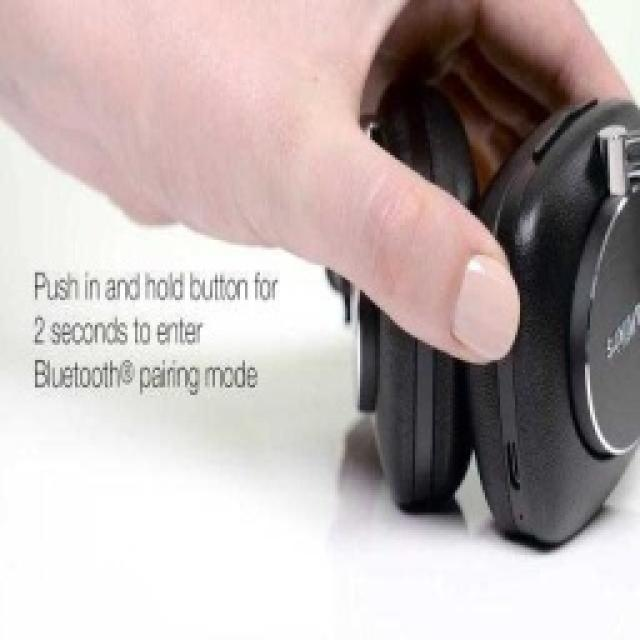headphones: (345, 65, 637, 547)
